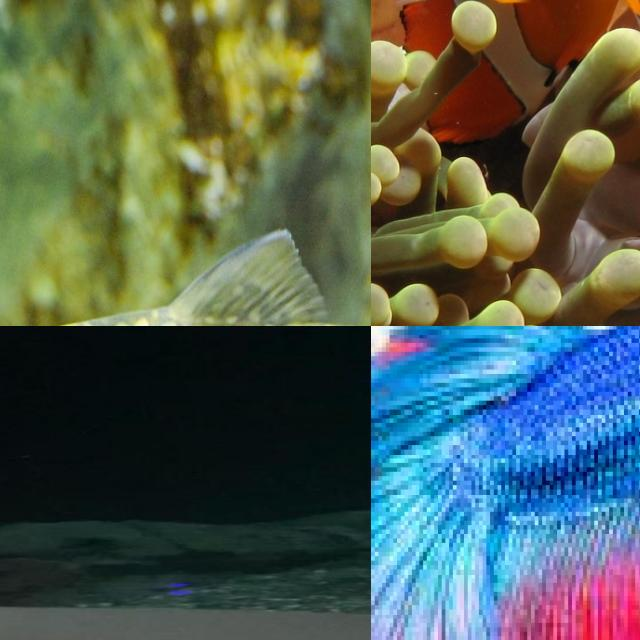fish: (0, 0, 371, 326), (371, 494, 640, 640), (371, 0, 640, 144)
